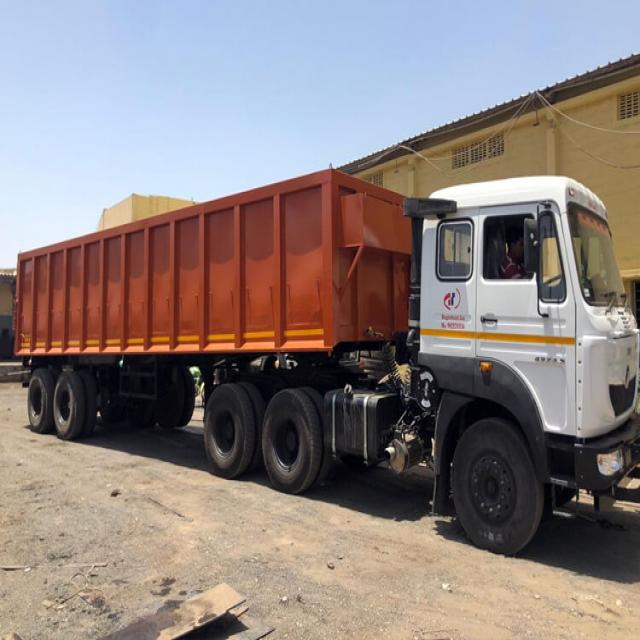truck: (15, 169, 640, 554)
